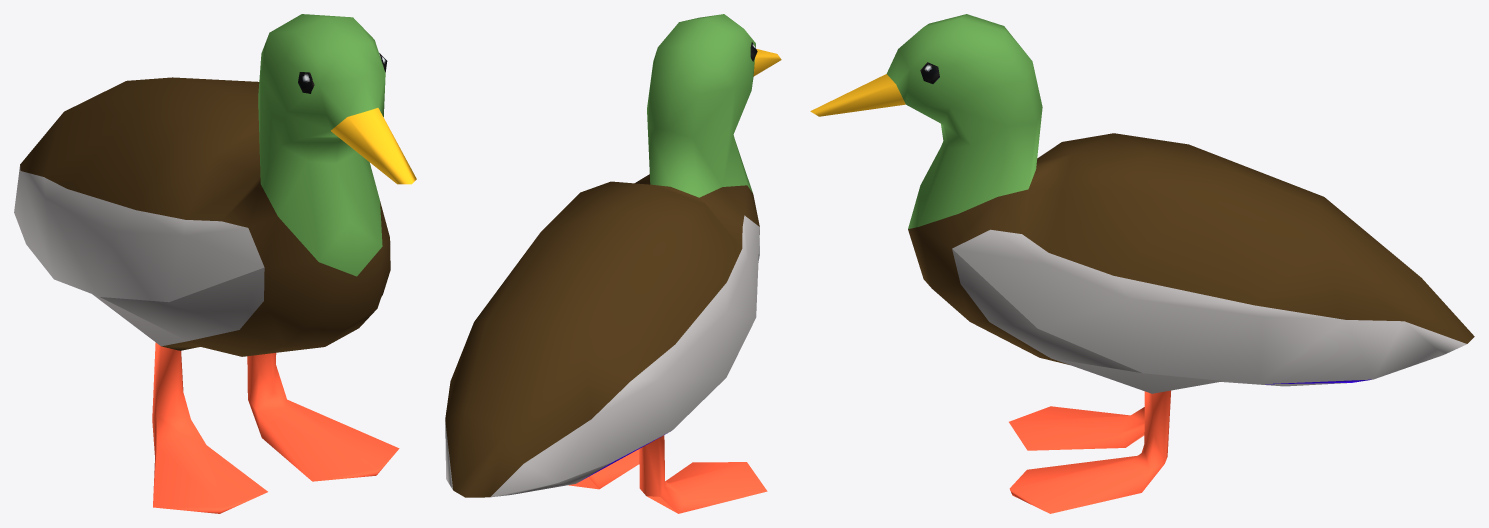
The picture shows the model from 3 angles, left to right: view 1: azimuth 30°, elevation 25°; view 2: azimuth 150°, elevation 25°; view 3: azimuth 270°, elevation 25°; orthographic projection. The views are drawn at different scales.
Parts seen in each view (by area): view 1: Duck; view 2: Duck; view 3: Duck.
Boxes of the visible parts, x1,y1,x2,y2 form: Duck: [14, 14, 416, 513]; Duck: [445, 14, 781, 513]; Duck: [810, 14, 1474, 513].
Size of what is drawn, in the model's own units: 0.3219 by 0.6169 by 0.8387.
Materials: 1 (1 with a texture image).
